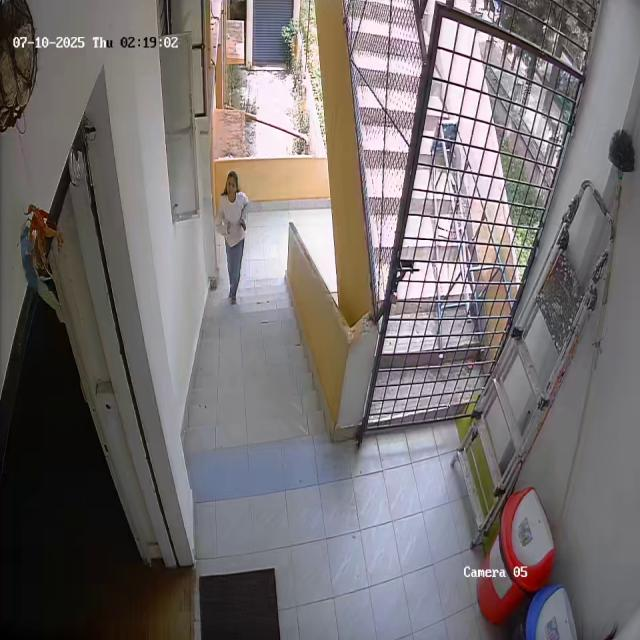person: (214, 170, 251, 306)
